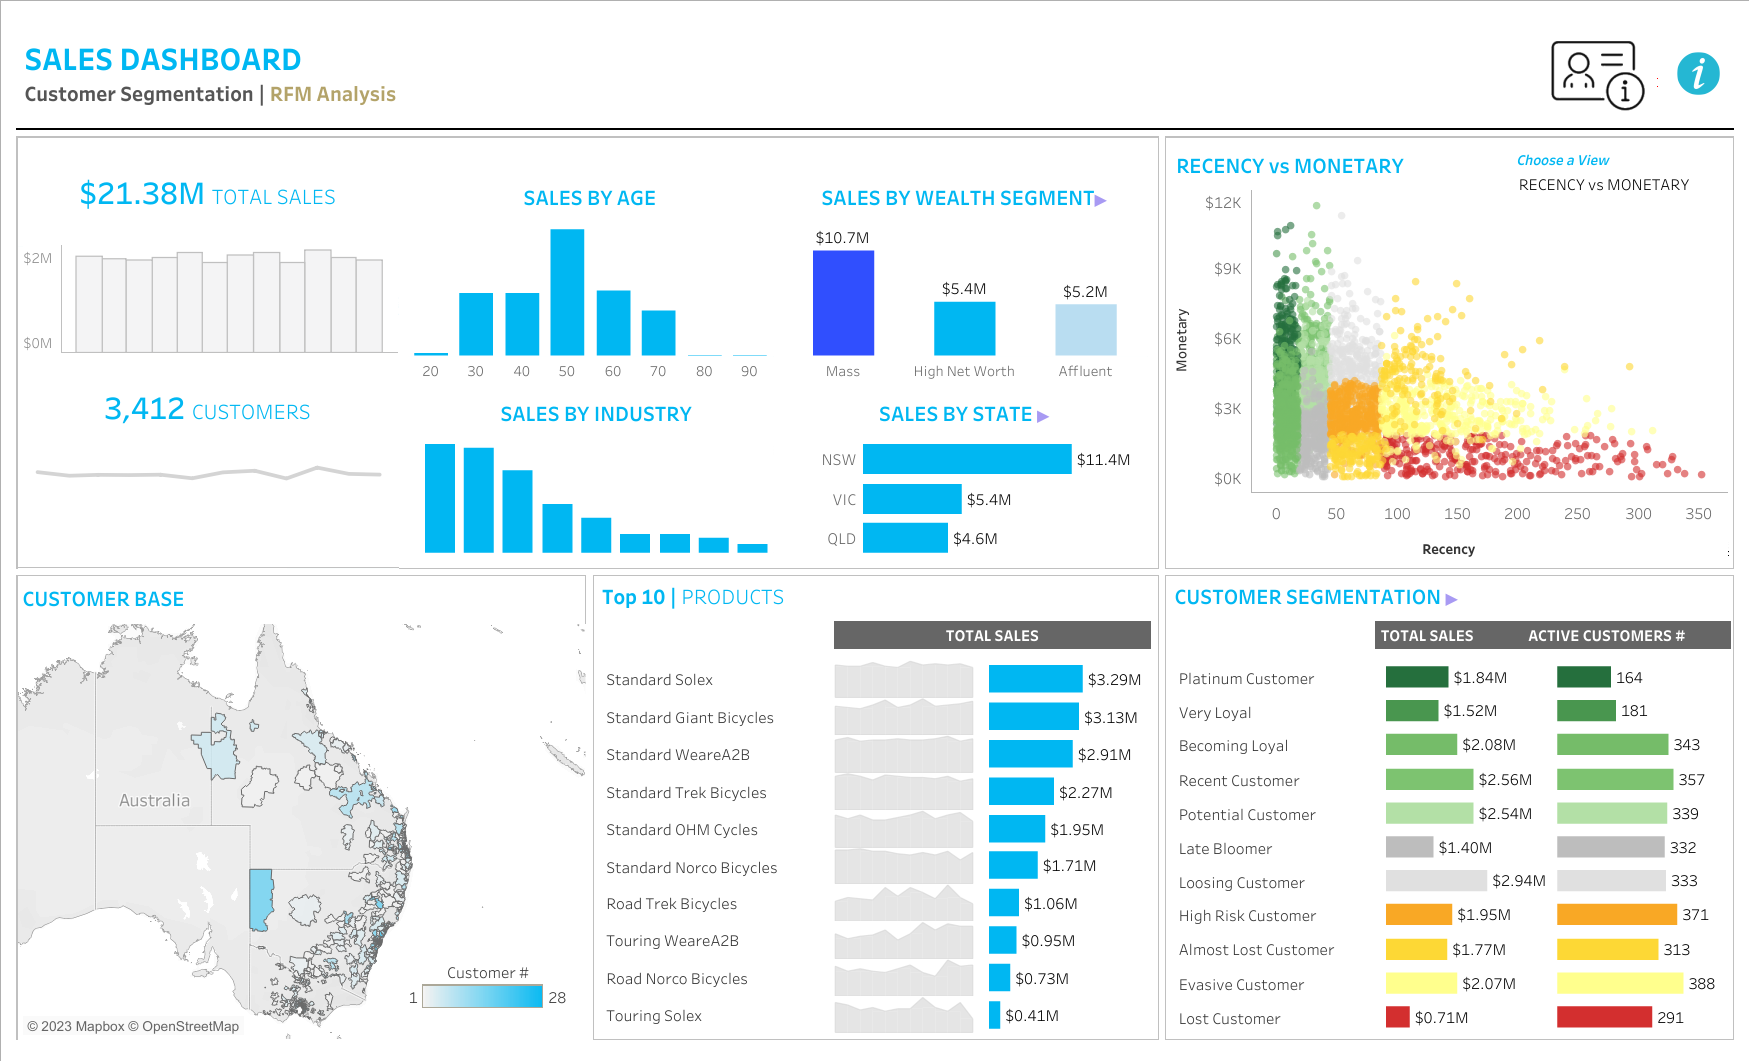

The dashboard page shown, as its layout file describes it:
{"tool":"tableau","page":{"name":"RFM Dashboard","canvas":[1400,850],"ordinal":1},"visuals":[{"type":"text","box":[13,13,1206,89]},{"type":"worksheet","title":"Customer Info Btn","mark":"Shape","box":[1219,13,110,89]},{"type":"worksheet","title":"RFM i","mark":"Shape","box":[1329,13,58,89]},{"type":"blank","box":[13,102,1374,2]},{"type":"worksheet","title":"Total Sales","mark":"Automatic","box":[14,110,304,86]},{"type":"worksheet","title":"Age Distribution","mark":"Automatic","rows":["list_price"],"cols":["Calculation_637259375707873280"],"box":[318,110,304,199]},{"type":"worksheet","title":"Wealth Seg Distribution","mark":"Automatic","rows":["list_price"],"cols":["wealth_segment"],"box":[622,110,299,199]},{"type":"worksheet","title":"RECENCY vs MONETARY","mark":"Automatic","rows":["monetary"],"cols":["Calculation_1011902575225446400"],"box":[933,110,453,314]},{"type":"parameter","param":"[Parameters].[Parameter 4]","box":[1213,119,163,45]},{"type":"worksheet","title":"Total profit by month ","mark":"Bar","rows":["list_price"],"cols":["transaction_date"],"box":[14,196,304,86]},{"type":"worksheet","title":"Total Customers","mark":"Automatic","box":[14,282,304,86]},{"type":"worksheet","title":"Job Industry Distribution","mark":"Automatic","rows":["list_price"],"cols":["job_industry_category"],"box":[318,309,304,145]},{"type":"worksheet","title":"State Revenue","mark":"Automatic","rows":["State (copy)_637259375713636356"],"cols":["list_price"],"box":[622,309,299,141]},{"type":"worksheet","title":"Total Customers by month","mark":"Line","rows":["customer_id"],"cols":["transaction_date"],"box":[14,368,304,86]},{"type":"worksheet","title":"Sheet 19","mark":"Automatic","box":[933,424,453,30]},{"type":"worksheet","title":"Map","mark":"Multipolygon","box":[13,458,458,374]},{"type":"text","box":[475,461,451,31]},{"type":"text","box":[933,461,453,31]},{"type":"blank","box":[480,497,187,22]},{"type":"text","box":[667,497,254,22]},{"type":"blank","box":[933,497,167,22]},{"type":"text","box":[1100,497,115,22]},{"type":"text","box":[1215,497,170,22]},{"type":"worksheet","title":"Top products by month10 ","mark":"Area","rows":["Calculation_1010213722344501248","list_price"],"cols":["transaction_date"],"box":[475,524,312,306.9]},{"type":"worksheet","title":"Top 10 Products","mark":"Automatic","rows":["Calculation_1010213722344501248"],"cols":["list_price"],"box":[787,524,139,306.9]},{"type":"worksheet","title":"Cust Seg RFM Bar Chart","mark":"Automatic","rows":["detail_cust_title"],"cols":["list_price","Calculation_968836899342495746"],"box":[933,524,453,307]},{"type":"legend","title":"Map","param":"[federated.19k9igp16a8ij218d8u2w1s5ym2z].[usr:Calculation_968836899342495746:qk]","box":[323,764,135,51]}]}

Visuals, with their boxes in screenshot pixels (x1, y1, x2, y2), scaled from the page's 1400x850 canvas onto the 1749x1061 screenshot:
text: bbox=[16, 16, 1523, 127]
"Customer Info Btn" worksheet (Shape marks): bbox=[1523, 16, 1660, 127]
"RFM i" worksheet (Shape marks): bbox=[1660, 16, 1733, 127]
blank: bbox=[16, 127, 1733, 130]
"Total Sales" worksheet: bbox=[17, 137, 397, 245]
"Age Distribution" worksheet: bbox=[397, 137, 777, 386]
"Wealth Seg Distribution" worksheet: bbox=[777, 137, 1151, 386]
"RECENCY vs MONETARY" worksheet: bbox=[1166, 137, 1732, 529]
parameter: bbox=[1515, 149, 1719, 205]
"Total profit by month " worksheet (Bar marks): bbox=[17, 245, 397, 352]
"Total Customers" worksheet: bbox=[17, 352, 397, 459]
"Job Industry Distribution" worksheet: bbox=[397, 386, 777, 567]
"State Revenue" worksheet: bbox=[777, 386, 1151, 562]
"Total Customers by month" worksheet (Line marks): bbox=[17, 459, 397, 567]
"Sheet 19" worksheet: bbox=[1166, 529, 1732, 567]
"Map" worksheet (Multipolygon marks): bbox=[16, 572, 588, 1039]
text: bbox=[593, 575, 1157, 614]
text: bbox=[1166, 575, 1732, 614]
blank: bbox=[600, 620, 833, 648]
text: bbox=[833, 620, 1151, 648]
blank: bbox=[1166, 620, 1374, 648]
text: bbox=[1374, 620, 1518, 648]
text: bbox=[1518, 620, 1730, 648]
"Top products by month10 " worksheet (Area marks): bbox=[593, 654, 983, 1037]
"Top 10 Products" worksheet: bbox=[983, 654, 1157, 1037]
"Cust Seg RFM Bar Chart" worksheet: bbox=[1166, 654, 1732, 1037]
"Map" legend: bbox=[404, 954, 572, 1017]
